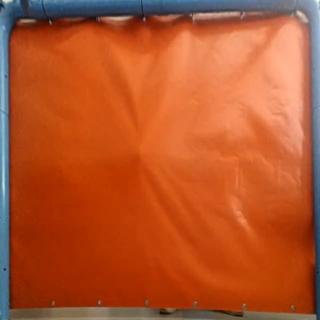Hit-hRxx: (131, 146, 146, 160)
